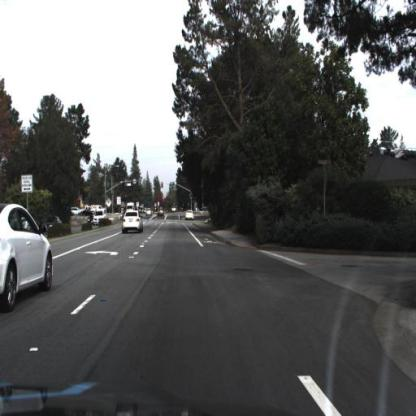car: (1, 203, 56, 317), (1, 203, 55, 319), (120, 210, 145, 234), (183, 205, 198, 226), (92, 208, 107, 227), (185, 208, 197, 224), (144, 207, 154, 219), (158, 208, 167, 220)
